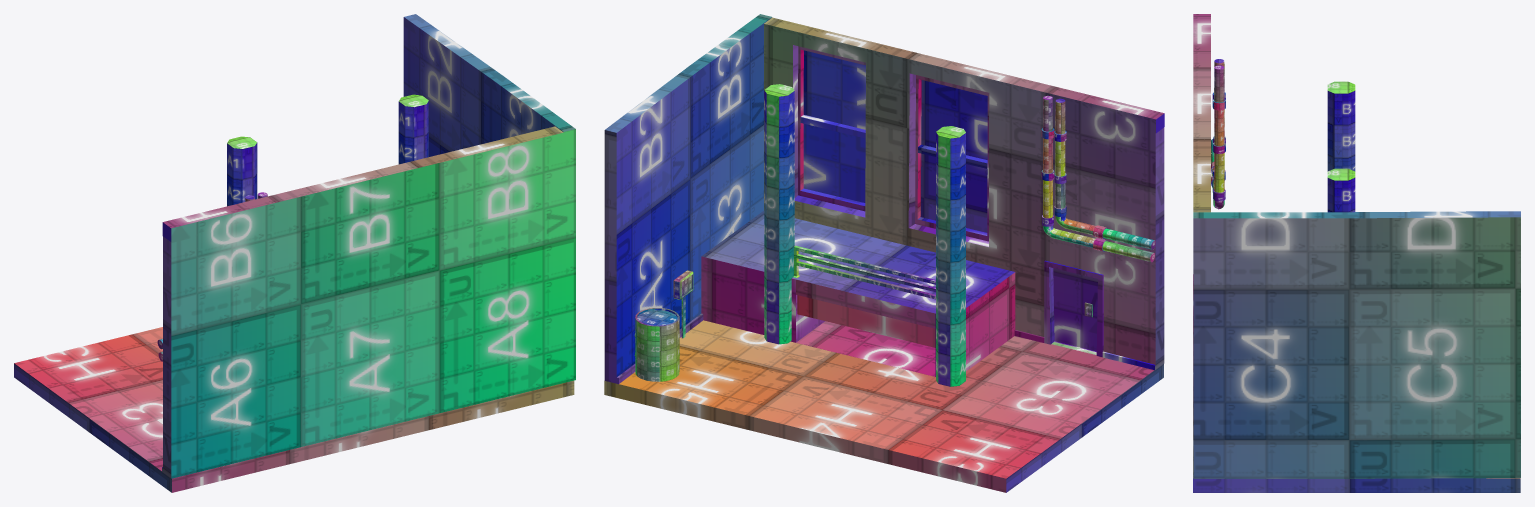
The model's file is Hallway.obj.
3 renders of one model, left to right at view 1: azimuth 30°, elevation 25°; view 2: azimuth 150°, elevation 25°; view 3: azimuth 270°, elevation 25°, orthographic. The views are drawn at different scales.
Parts seen in each view (by area): view 1: pCube1, pasted__pCube3 group, pCube3; view 2: pCube1, pasted__pCube3 group, pCube3, pCylinder2, pCylinder1, pasted__pCylinder1 group1, pCube4, pCube5; view 3: pCube1, pCube3, pCylinder1, pasted__pCube3 group.
Part boxes in pixels (box(x1,y1,x2,y2)): pCube1: box(14, 14, 575, 492); pasted__pCube3 group: box(398, 94, 428, 164); pCube3: box(227, 136, 257, 206); pCube1: box(604, 14, 1164, 492); pasted__pCube3 group: box(764, 84, 794, 344); pCube3: box(936, 126, 965, 386); pCylinder2: box(634, 308, 680, 381); pCylinder1: box(1041, 95, 1154, 262); pasted__pCylinder1 group1: box(1054, 98, 1155, 249); pCube4: box(793, 245, 935, 299); pCube5: box(673, 270, 693, 338); pCube1: box(1193, 14, 1520, 492); pCube3: box(1327, 81, 1355, 171); pCylinder1: box(1211, 65, 1225, 209); pasted__pCube3 group: box(1327, 168, 1355, 212).
Bounding box in the file's own units: 54.63 × 34.22 × 36.91.
Materials: 6 (6 with a texture image).
